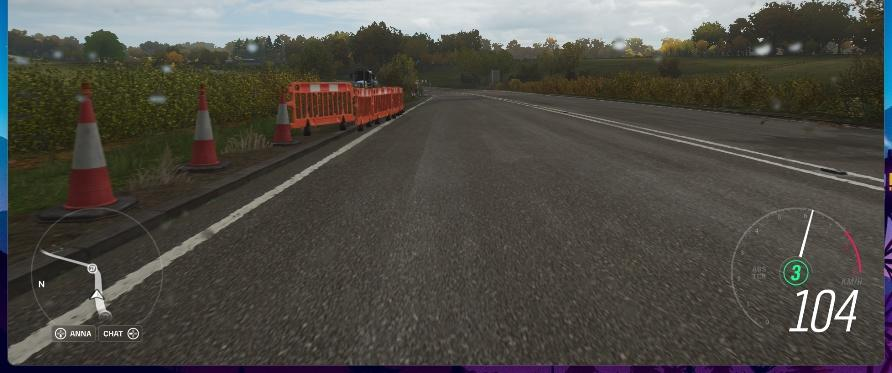Tree: (231, 39, 373, 71), (419, 31, 489, 84), (803, 2, 853, 56), (10, 29, 83, 65), (756, 2, 798, 57), (125, 41, 229, 61), (377, 51, 418, 95), (854, 0, 883, 53), (82, 28, 125, 63), (728, 16, 756, 53), (697, 22, 729, 53), (661, 36, 690, 57)
